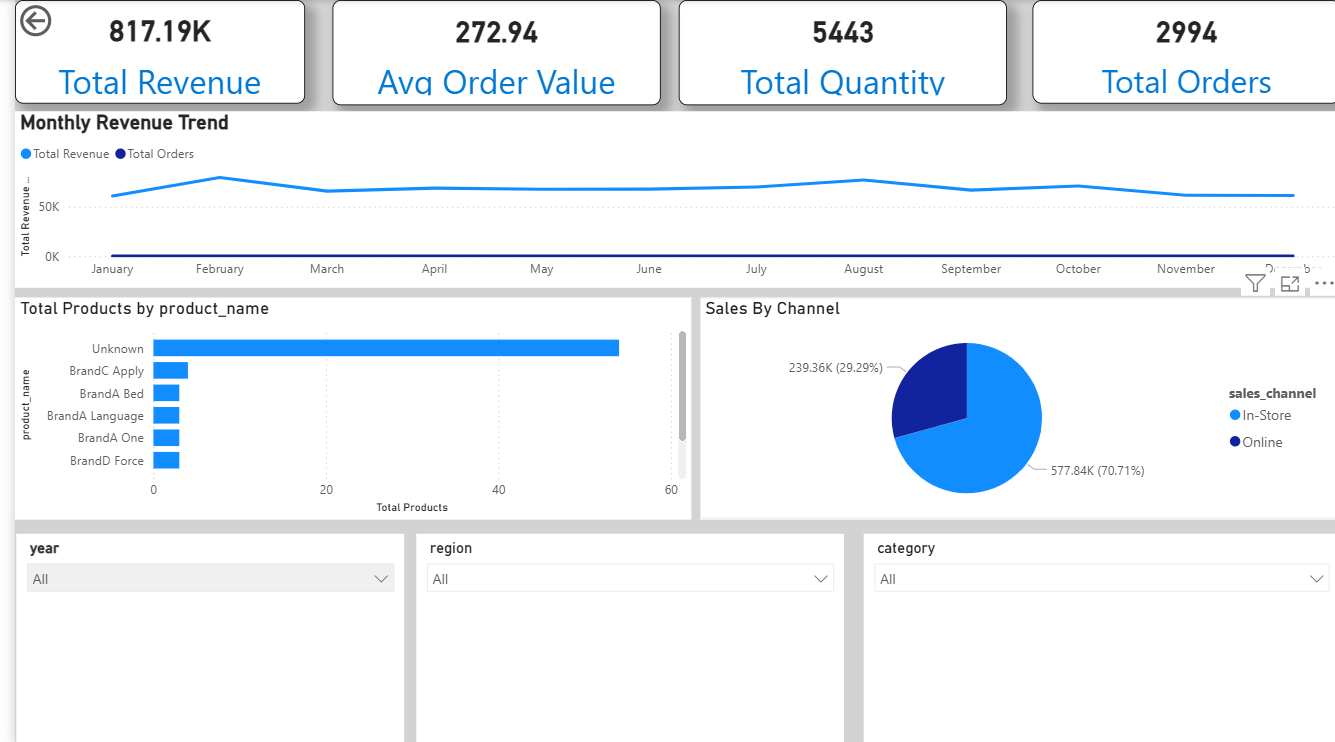

The page's visual inventory and layout, read from the dashboard file:
{"tool":"powerbi","page":{"name":"SALES OVERVIEW","canvas":[1280,720],"ordinal":0},"visuals":[{"type":"card","fields":{"Values":["sql_sales.Total Revenue"]},"box":[0,0,279.9,100.2],"z":0},{"type":"card","fields":{"Values":["sql_sales.Total Quantity"]},"box":[640.8,0,317,101.5],"z":1000},{"type":"card","fields":{"Values":["sql_sales.Total Orders"]},"box":[982.5,0,297.8,100.2],"z":2000},{"type":"card","fields":{"Values":["sql_sales.Avg Order Value"]},"box":[306,0,317,101.5],"z":3000},{"type":"lineChart","title":"Monthly Revenue Trend","fields":{"Category":["sql_sales.order_date.Variation.Date Hierarchy.Month"],"Y":["sql_sales.Total Revenue","sql_sales.Total Orders"]},"box":[0,107,1280.3,170.2],"z":4000},{"type":"barChart","fields":{"Category":["sql_product.product_name"],"Y":["sql_product.Total Products"]},"box":[0,286.8,653.2,214.1],"z":5000},{"type":"pieChart","title":"Sales By Channel","fields":{"Category":["sql_sales.sales_channel"],"Y":["sql_sales.Total Revenue"]},"box":[661.4,286.8,617.5,214.1],"z":6000},{"type":"slicer","fields":{"Values":["sql_sales.year"]},"box":[1.4,514.6,374.6,205.8],"z":7000},{"type":"slicer","fields":{"Values":["sql_store.region"]},"box":[387,514.6,413,205.8],"z":8000},{"type":"actionButton","box":[0,0,100,40],"z":9000},{"type":"slicer","fields":{"Values":["sql_product.category"]},"box":[819.2,514.6,459.7,205.8],"z":10000}]}

Visuals, with their boxes in screenshot pixels (x1, y1, x2, y2), scaled from the page's 1280x720 canvas onto the 1335x742 screenshot:
card - sql_sales.Total Revenue: 0 0 292 103
card - sql_sales.Total Quantity: 668 0 999 105
card - sql_sales.Total Orders: 1025 0 1334 103
card - sql_sales.Avg Order Value: 319 0 650 105
"Monthly Revenue Trend" lineChart: 0 110 1334 286
barChart - sql_product.product_name x sql_product.Total Products: 0 296 681 516
"Sales By Channel" pieChart: 690 296 1334 516
slicer - sql_sales.year: 1 530 392 741
slicer - sql_store.region: 404 530 834 741
actionButton: 0 0 104 41
slicer - sql_product.category: 854 530 1334 741
